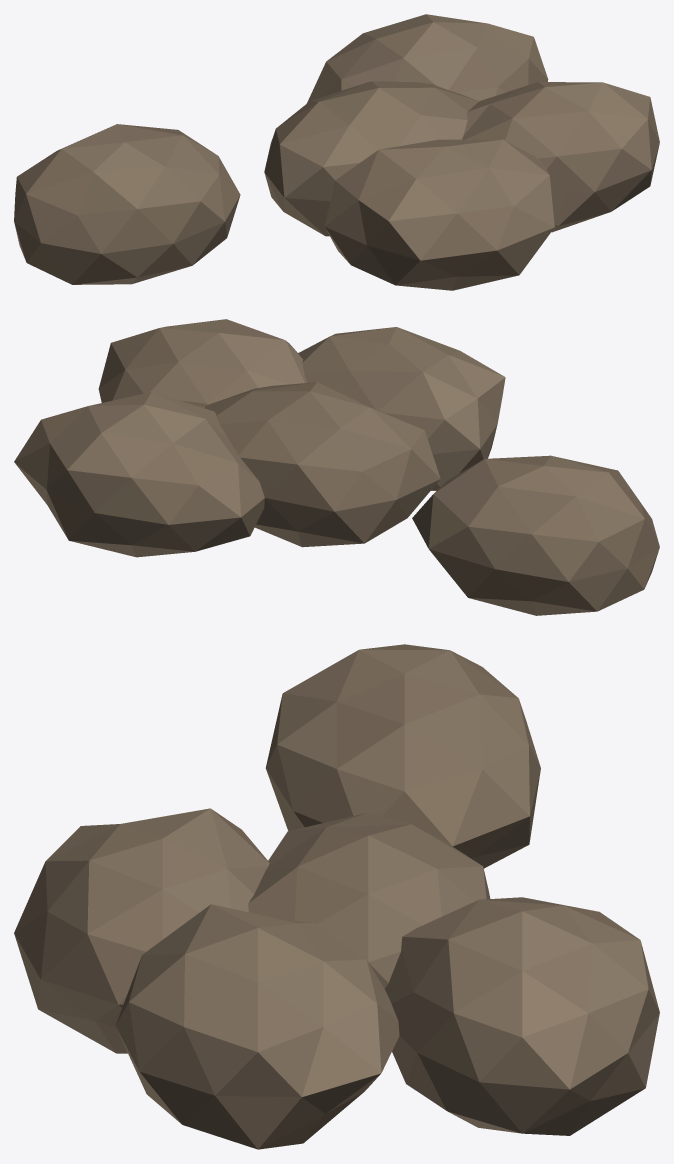
Rendered from desert-pebbles.glb.
3 views of the same model, one above another, from view 1: azimuth 30°, elevation 25°; view 2: azimuth 150°, elevation 25°; view 3: azimuth 270°, elevation 25° (orthographic). The views are drawn at different scales.
Visible parts, largest first — view 1: desert-pebbles; view 2: desert-pebbles; view 3: desert-pebbles.
Part boxes in pixels (left/top/right/bottom): desert-pebbles: left=14, top=14, right=659, bottom=290; desert-pebbles: left=14, top=319, right=659, bottom=615; desert-pebbles: left=14, top=644, right=659, bottom=1149.
Bounding box in the file's own units: 0.8012 × 0.192 × 0.5463.
